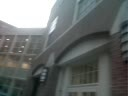window: (1, 35, 44, 54), (78, 0, 102, 17), (2, 78, 23, 96)
